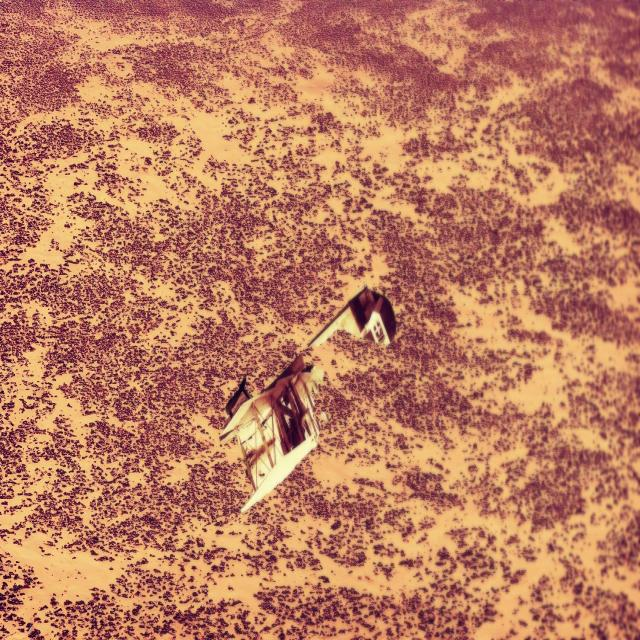airplane: (218, 284, 396, 514)
